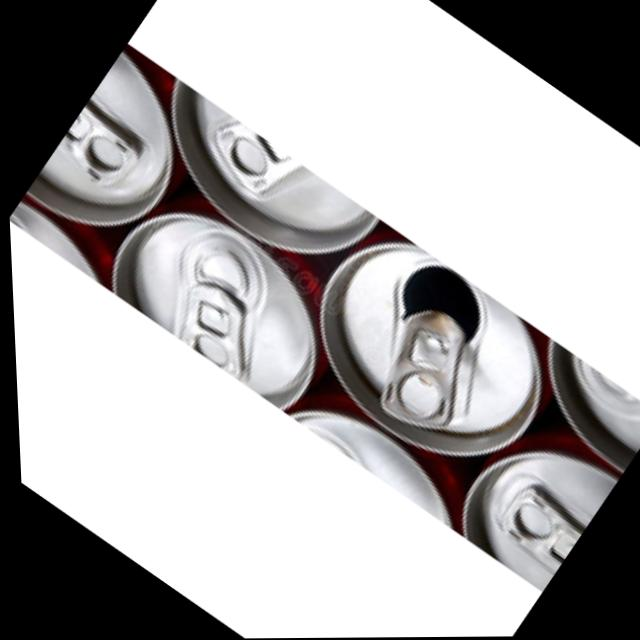aluminum_soda_cans: (269, 215, 569, 490), (90, 185, 359, 423), (121, 73, 375, 288), (17, 45, 218, 258), (436, 410, 620, 596), (504, 341, 640, 478)
